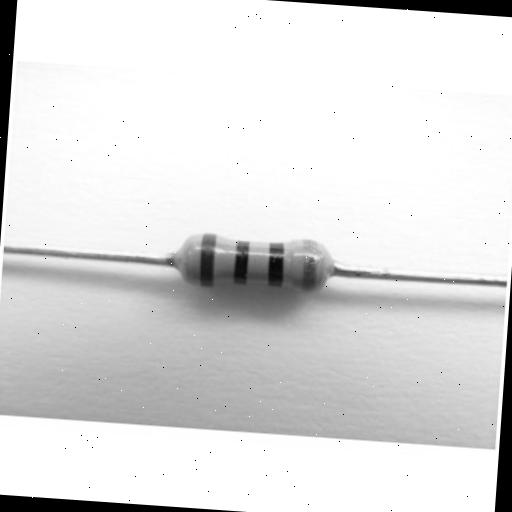RESISTOR: (62, 178, 366, 396)
